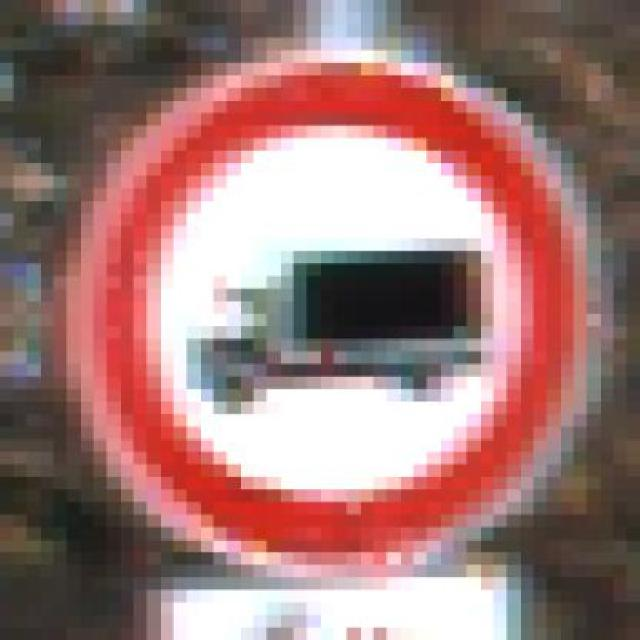Truck traffic is prohibited: (19, 38, 619, 602)
